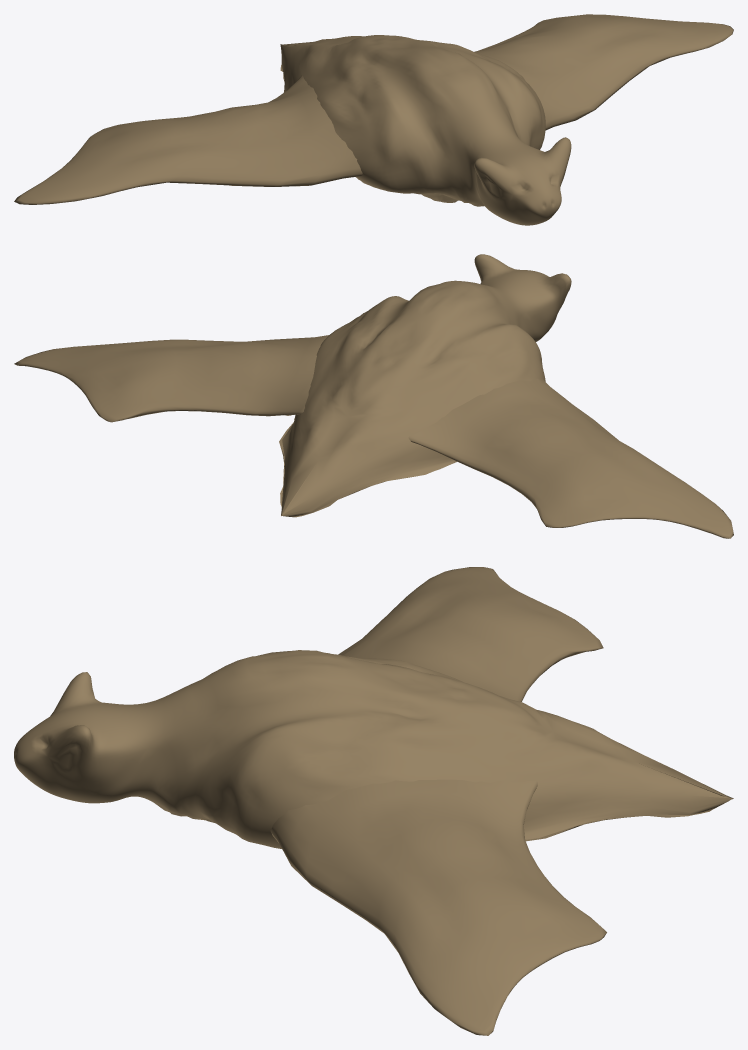
The model's file is Bat.fbx.
The picture shows the model from 3 angles, top to bottom: view 1: azimuth 30°, elevation 25°; view 2: azimuth 150°, elevation 25°; view 3: azimuth 270°, elevation 25°; orthographic projection. The views are drawn at different scales.
Parts seen in each view (by area): view 1: Plane; view 2: Plane; view 3: Plane.
Part boxes in pixels (<box>): Plane: <box>14,14,733,225</box>; Plane: <box>14,254,733,538</box>; Plane: <box>14,567,733,1035</box>.
Size of the model in its own units: 4.26 by 0.8239 by 2.77.
